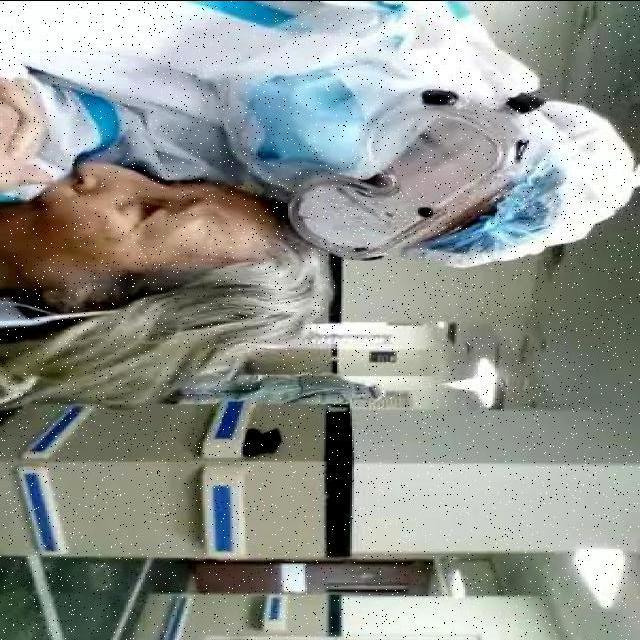mask: (238, 66, 382, 186)
no_gloves: (184, 218, 320, 368)
